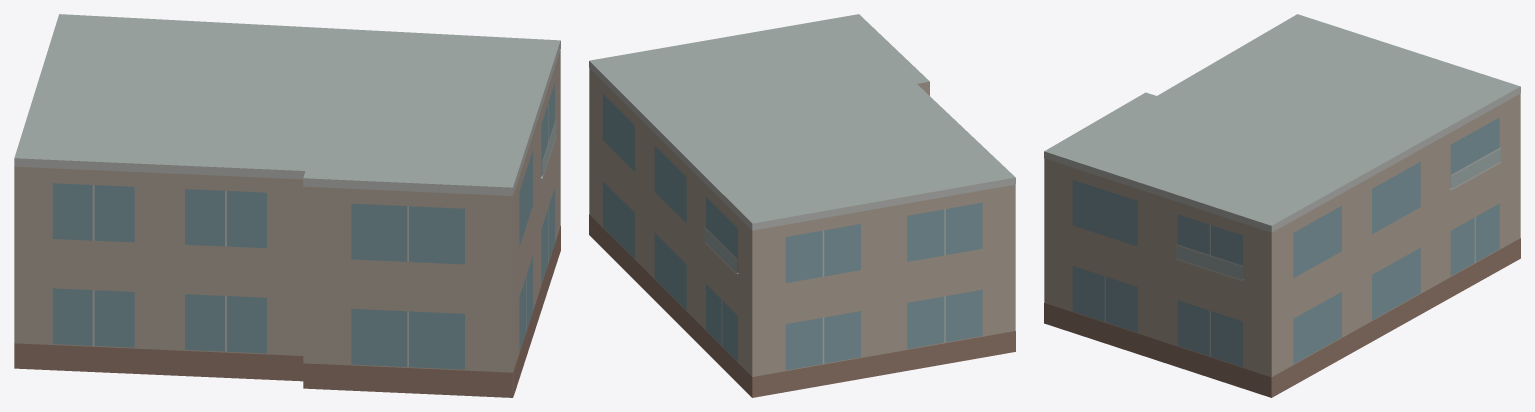
Rendered from survey-upis-32850865.glb.
3 renders of one model, left to right at view 1: azimuth 30°, elevation 25°; view 2: azimuth 150°, elevation 25°; view 3: azimuth 270°, elevation 25°, orthographic. The views are drawn at different scales.
Visible parts, largest first — view 1: survey-upis-32850865.tmp; view 2: survey-upis-32850865.tmp; view 3: survey-upis-32850865.tmp.
Part boxes in pixels (<box>): survey-upis-32850865.tmp: <box>14,14,560,397</box>; survey-upis-32850865.tmp: <box>589,14,1015,397</box>; survey-upis-32850865.tmp: <box>1044,14,1520,397</box>.
Bounding box in the file's own units: 16.12 × 6.1 × 15.33.
